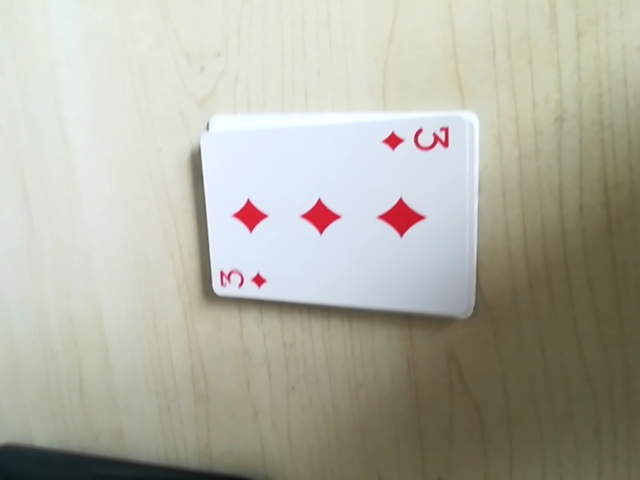fk 3: (380, 118, 460, 162), (212, 259, 275, 295)
